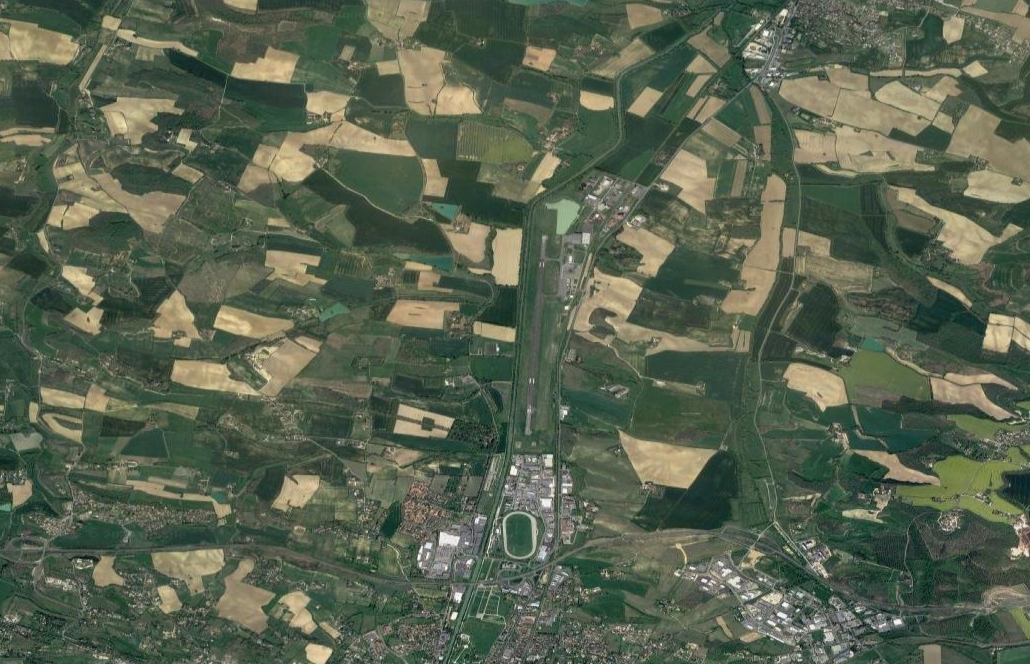airport: (523, 230, 593, 437)
